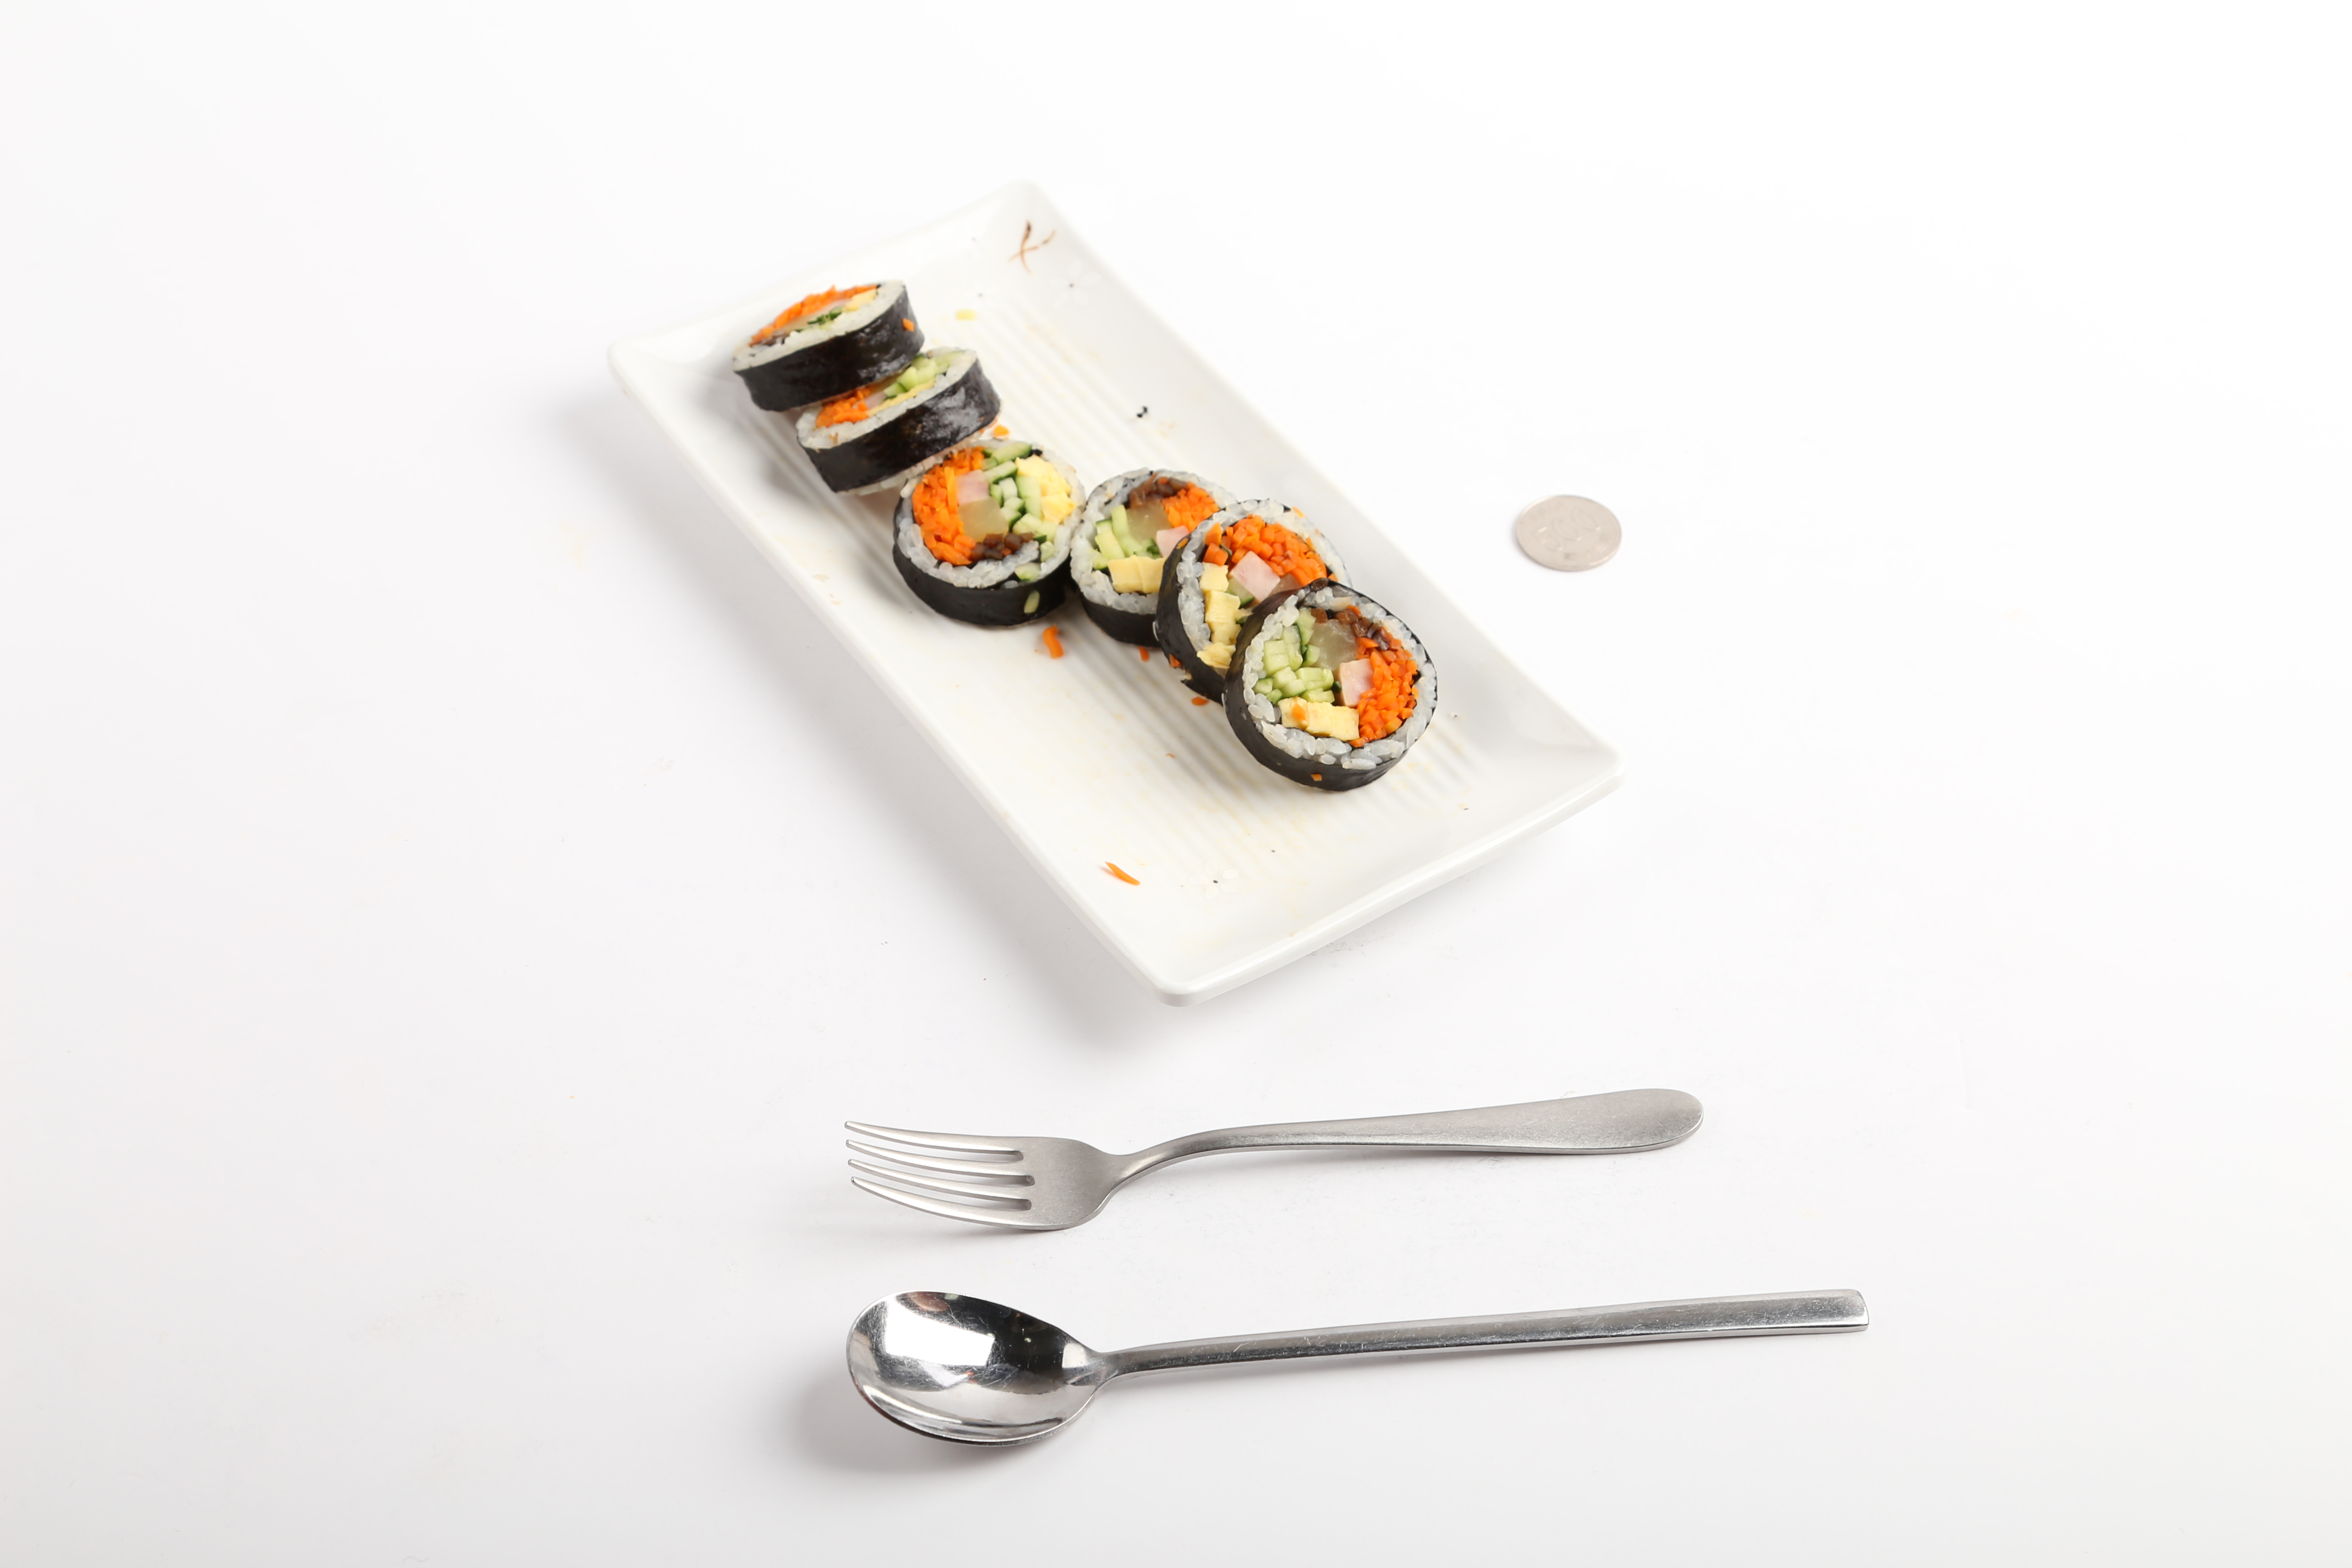dish: (604, 171, 1626, 1017)
ref_coin: (1507, 490, 1622, 581)
ref_fork: (840, 1094, 1225, 1235)
ref_spoon: (843, 1281, 1181, 1449)
김밥: (723, 276, 1444, 798)
